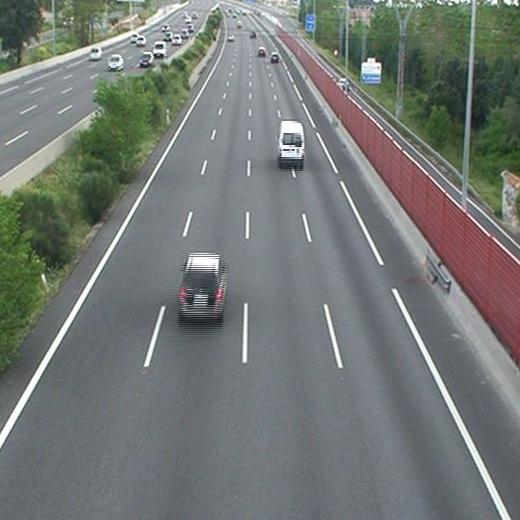car: (179, 255, 224, 317), (271, 53, 279, 61), (258, 48, 265, 56)
van: (279, 121, 305, 163)
